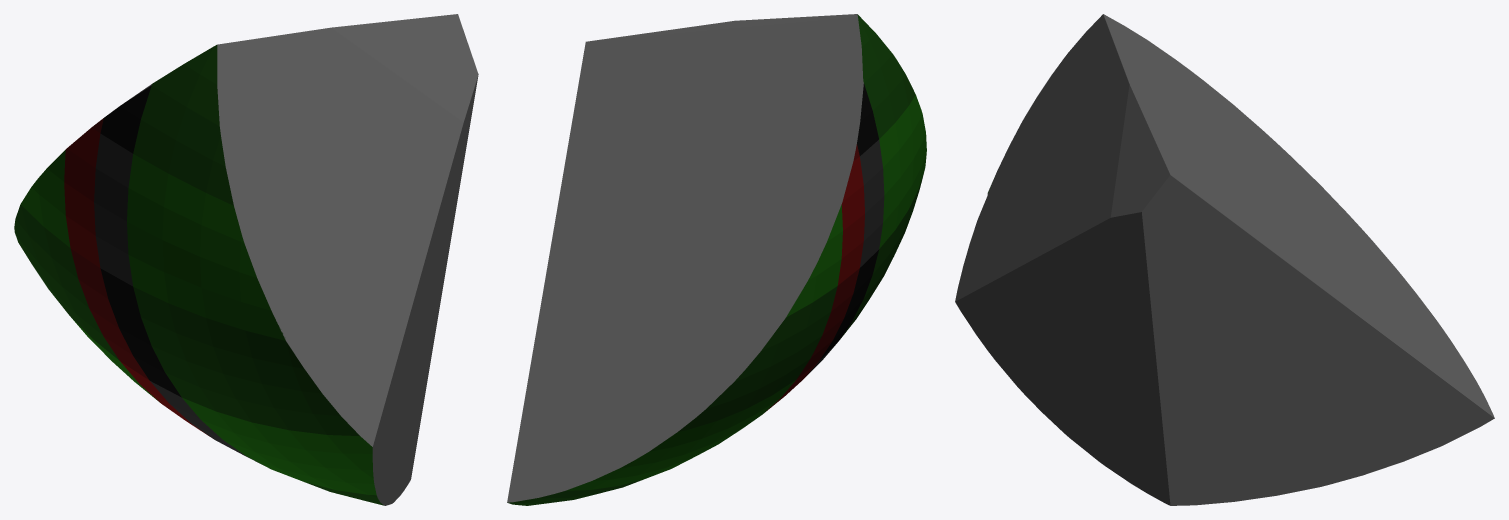
Rendered from Mortarmellon piece4.glb.
The picture shows the model from 3 angles, left to right: view 1: azimuth 30°, elevation 25°; view 2: azimuth 150°, elevation 25°; view 3: azimuth 270°, elevation 25°; orthographic projection. The views are drawn at different scales.
Visible parts, largest first — view 1: Mortarmelon Body_cell.003; view 2: Mortarmelon Body_cell.003; view 3: Mortarmelon Body_cell.003.
Boxes of the visible parts, <box> form: Mortarmelon Body_cell.003: <box>14,14,478,505</box>; Mortarmelon Body_cell.003: <box>507,14,926,505</box>; Mortarmelon Body_cell.003: <box>955,14,1494,505</box>.
Size of the model in its own units: 1.05 by 1.5 by 1.81.
